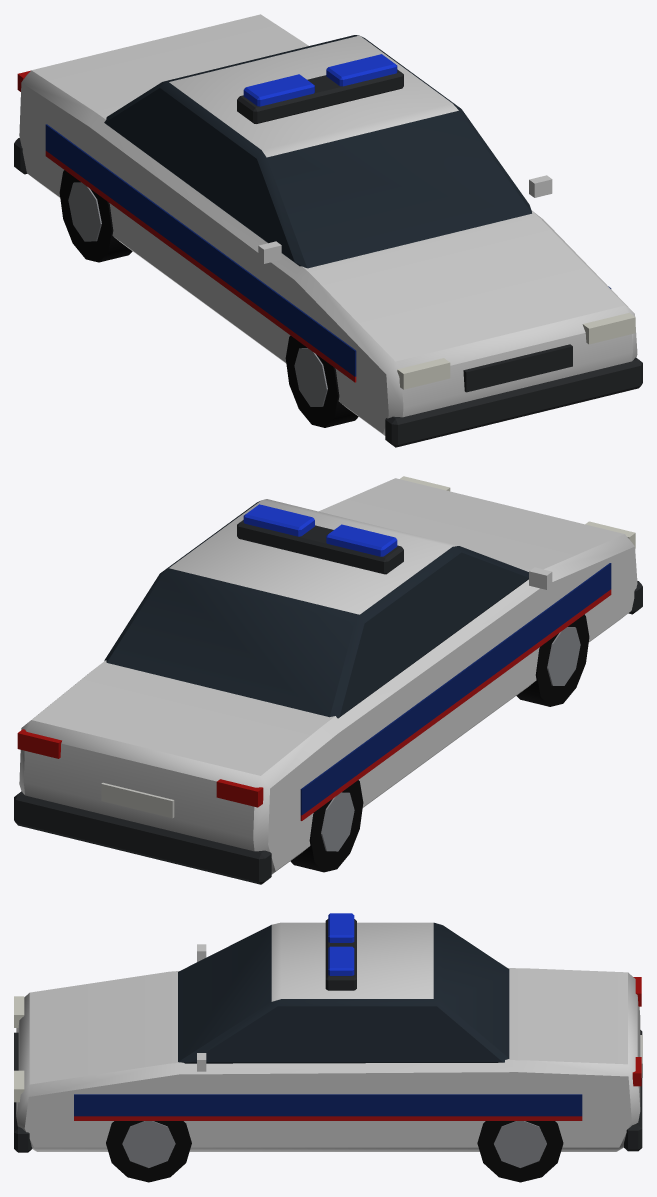
The model's file is police.glb.
3 views of the same model, one above another, from view 1: azimuth 30°, elevation 25°; view 2: azimuth 150°, elevation 25°; view 3: azimuth 270°, elevation 25° (orthographic). The views are drawn at different scales.
Visible parts, largest first — view 1: police; view 2: police; view 3: police.
Boxes of the visible parts, left/top/right/bottom form: police: left=14, top=14, right=642, bottom=447; police: left=14, top=476, right=642, bottom=884; police: left=14, top=913, right=642, bottom=1182.
Size of the model in its own units: 2.1 by 1.62 by 4.83.
